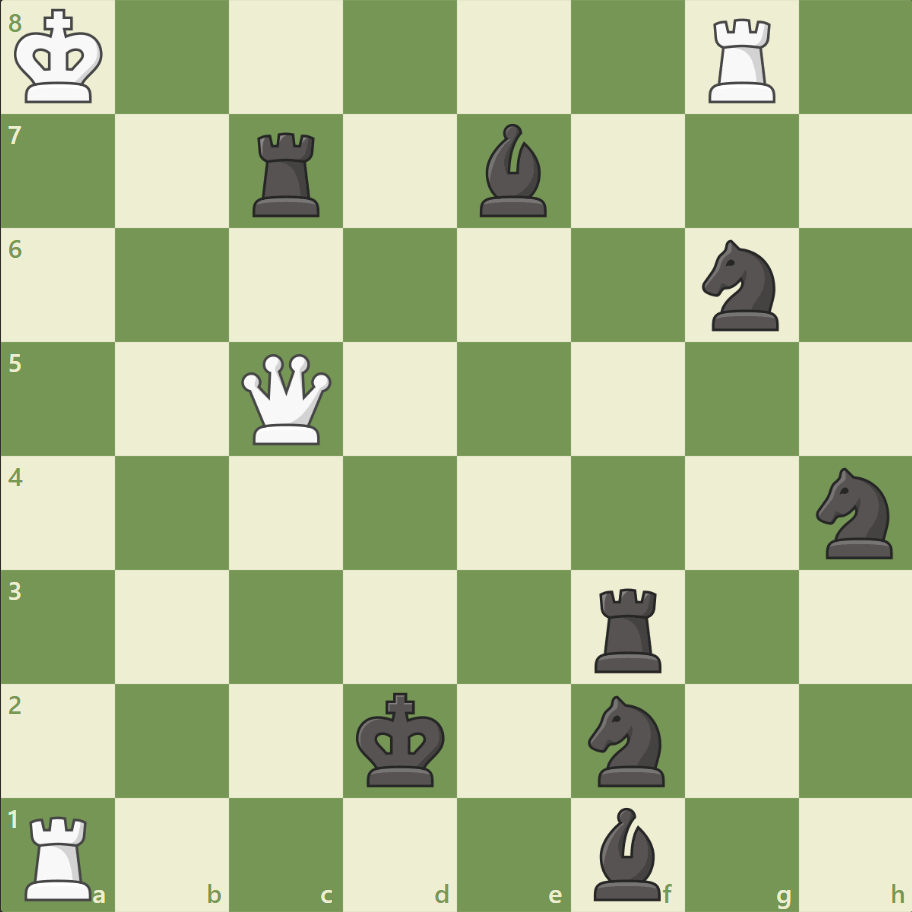K: (11, 4, 111, 112)
Q: (237, 349, 336, 449)
R: (19, 806, 102, 904), (700, 12, 783, 109)
b: (585, 801, 669, 904), (471, 120, 555, 222)
k: (351, 685, 451, 793)
n: (692, 234, 789, 337), (806, 461, 903, 564), (579, 688, 676, 791)
r: (246, 125, 329, 222), (587, 579, 670, 676)
